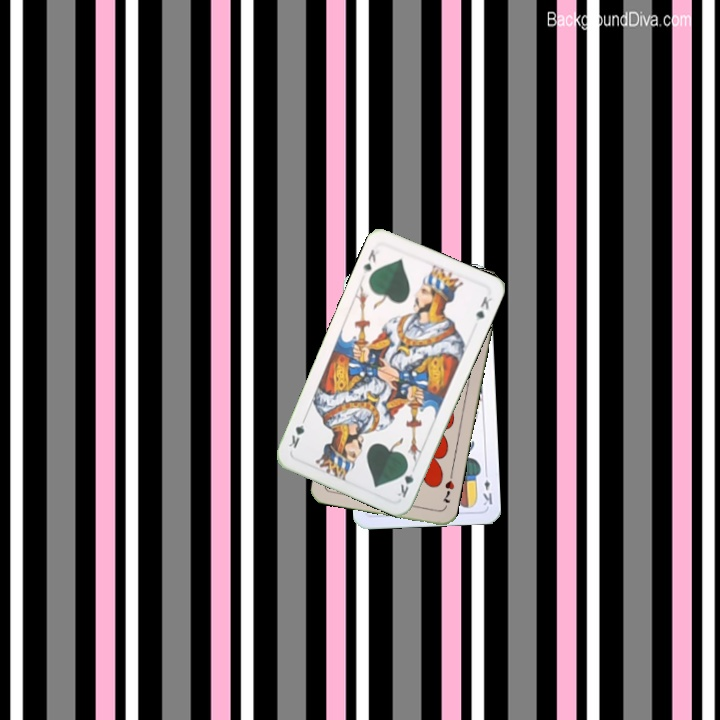EK: (479, 467, 495, 508)
GK: (393, 461, 418, 500), (359, 245, 378, 277)
H7: (438, 476, 457, 505)
